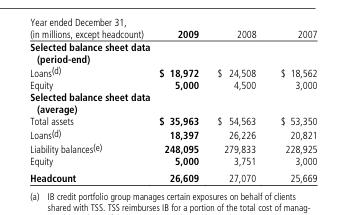table: (29, 28, 316, 183)
table column: (29, 28, 150, 183), (207, 28, 267, 183), (150, 28, 207, 183), (267, 28, 316, 183)
table column header: (29, 28, 316, 40)
table projected row header: (29, 40, 316, 64), (29, 91, 316, 115)
table row: (29, 40, 316, 64), (29, 91, 316, 115), (29, 64, 316, 78), (29, 127, 316, 141), (29, 141, 316, 155), (29, 155, 316, 169), (29, 169, 316, 183), (29, 78, 316, 91), (29, 28, 316, 40), (29, 115, 316, 127)
